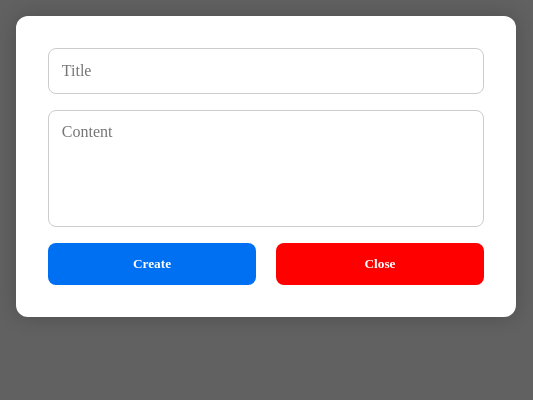
Scenario: ModalWindow › shows validation errors on empty submit
This screenshot has width=533, height=400.
Click the button "Create".
click(152, 264)  # box x1=48 y1=243 x2=256 y2=285
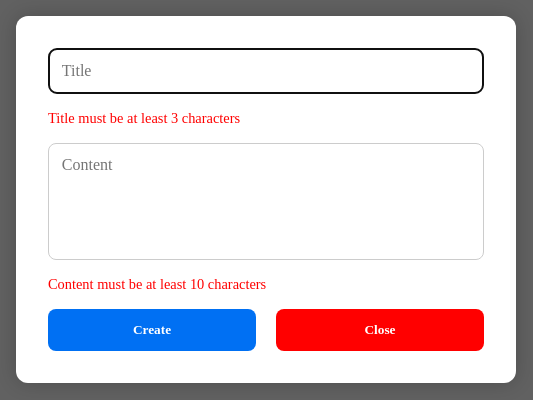
Now the text "Title must be at least 3 characters" is shown, box x1=48 y1=110 x2=240 y2=126
Now the text "Content must be at least 10 characters" is shown, box x1=48 y1=276 x2=266 y2=292
